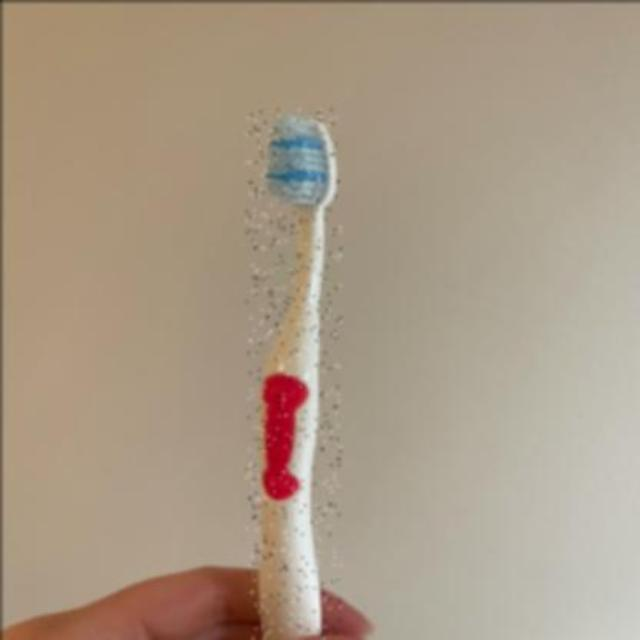toothbrush: (244, 108, 340, 640)
